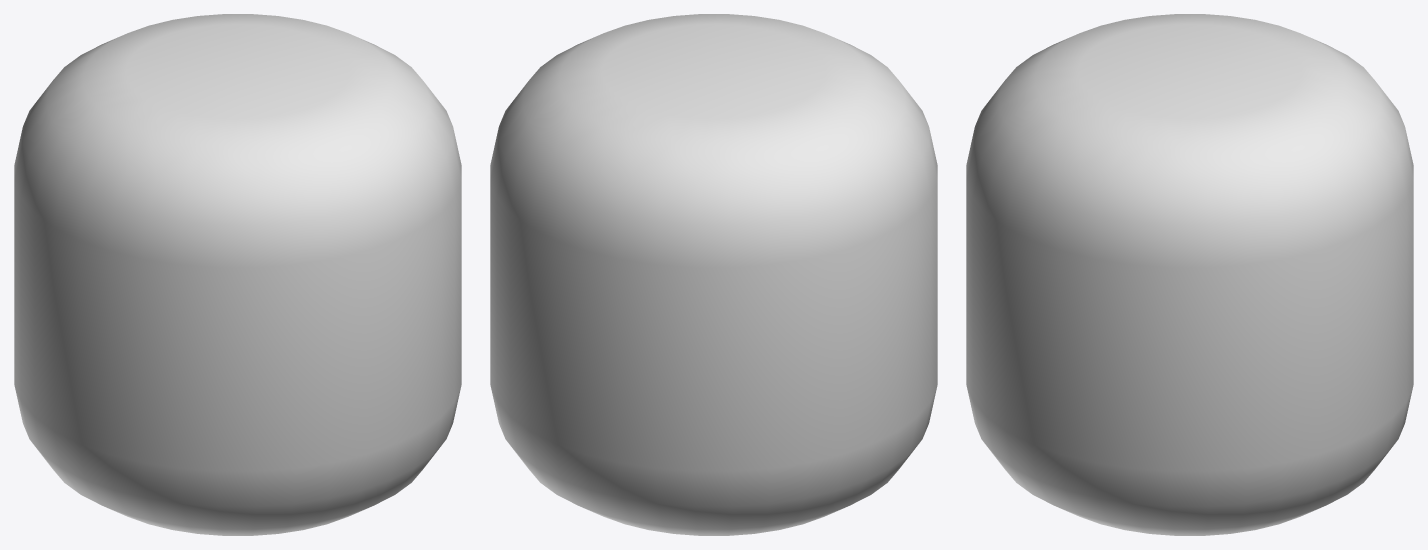
Rendered from 17-Silly-Focused-Cat-Face-face.glb.
3 renders of one model, left to right at view 1: azimuth 30°, elevation 25°; view 2: azimuth 150°, elevation 25°; view 3: azimuth 270°, elevation 25°, orthographic.
Visible parts, largest first — view 1: 17-Silly-Focused-Cat-Face-face; view 2: 17-Silly-Focused-Cat-Face-face; view 3: 17-Silly-Focused-Cat-Face-face.
Part boxes in pixels (bbox=[...]): 17-Silly-Focused-Cat-Face-face: bbox=[14, 14, 461, 535]; 17-Silly-Focused-Cat-Face-face: bbox=[490, 14, 937, 535]; 17-Silly-Focused-Cat-Face-face: bbox=[966, 14, 1413, 535].
Bounding box in the file's own units: 1.2 × 1.2 × 1.2.
Materials: 1 (1 with a texture image).
